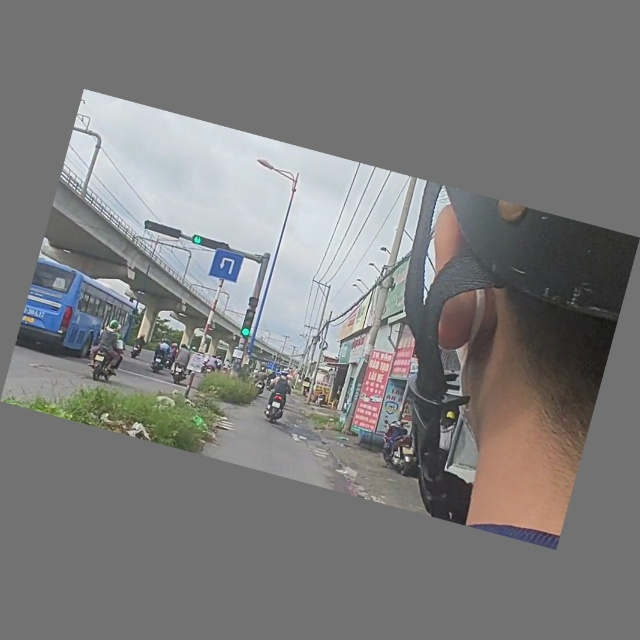I.409: (206, 246, 247, 285)
